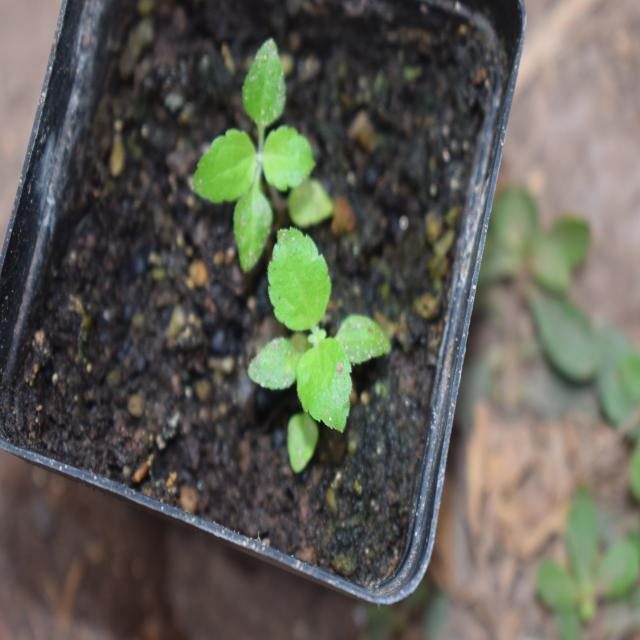billygoat_weed: (252, 232, 383, 473), (189, 52, 323, 269)
